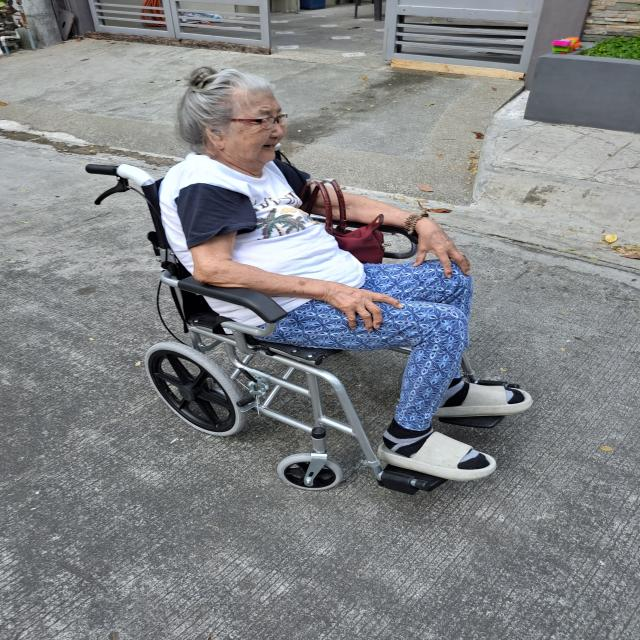wheelchairs: (85, 139, 521, 497)
